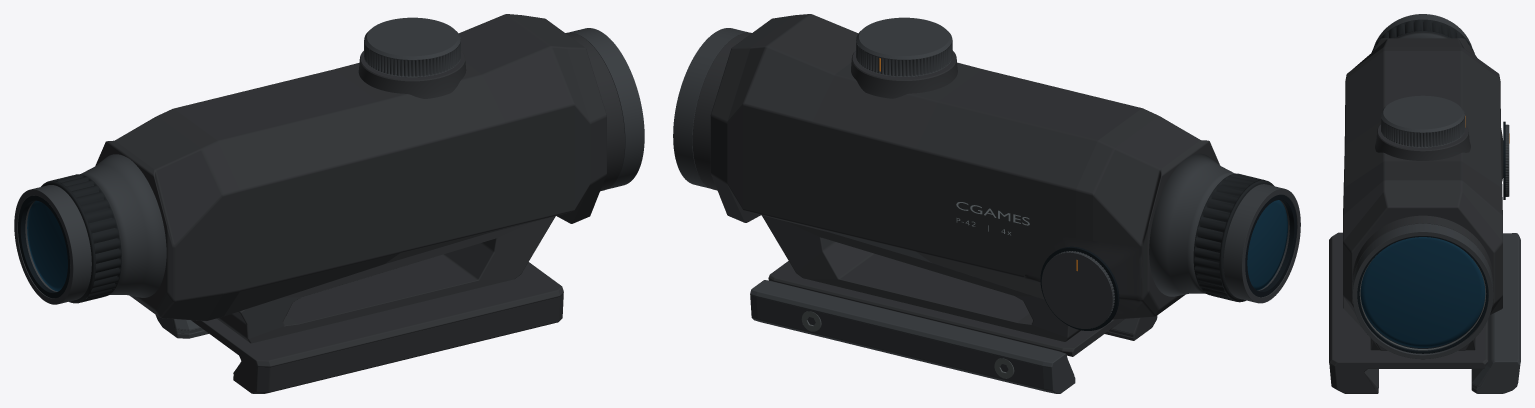
The model's file is P42_4x_Compact_Legacy_K1_Rail_Top.fbx.
3 views of the same model, side by side, from view 1: azimuth 30°, elevation 25°; view 2: azimuth 150°, elevation 25°; view 3: azimuth 270°, elevation 25° (orthographic). The views are drawn at different scales.
Parts seen in each view (by area): view 1: 01 PRIMARY | faceted prism housing, 21 LOWER SHELL | thin bridge and fixed edge, 20 UPPER FOOT | open angular saddle, 07 REAR | short taper neck, 10 REAR | end rim, 14 TOP | cap stepped core, 09 REAR | integrated axial rubber grip, 02 FRONT | short protective lip, 12 REAR | visual glass, 03 FRONT | narrow second shoulder, 13 TOP | compact housing boss, 15 TOP | actual fine axial flutes (+3 smaller); view 2: 01 PRIMARY | faceted prism housing, 22 SIDE STRIP | independent continuous bar, 20 UPPER FOOT | open angular saddle, 07 REAR | short taper neck, 21 LOWER SHELL | thin bridge and fixed edge, 18 SIDE | circular cap, 10 REAR | end rim, 14 TOP | cap stepped core, 09 REAR | integrated axial rubber grip, 02 FRONT | short protective lip, 16 SIDE | shallow integral control root, 12 REAR | visual glass (+6 smaller); view 3: 01 PRIMARY | faceted prism housing, 06 FRONT | recessed curved visual coating, 21 LOWER SHELL | thin bridge and fixed edge, 22 SIDE STRIP | independent continuous bar, 02 FRONT | short protective lip, 14 TOP | cap stepped core, 13 TOP | compact housing boss, 04 FRONT | dark cylindrical well, 03 FRONT | narrow second shoulder, 15 TOP | actual fine axial flutes, 09 REAR | integrated axial rubber grip, 10 REAR | end rim (+5 smaller).
Boxes of the visible parts, x1,y1,x2,y2 form: 01 PRIMARY | faceted prism housing: (95,14,606,321); 21 LOWER SHELL | thin bridge and fixed edge: (191,262,563,393); 20 UPPER FOOT | open angular saddle: (217,216,555,343); 07 REAR | short taper neck: (80,154,166,297); 10 REAR | end rim: (14,185,91,304); 14 TOP | cap stepped core: (364,17,460,77); 09 REAR | integrated axial rubber grip: (50,174,121,303); 02 FRONT | short protective lip: (569,28,644,189); 12 REAR | visual glass: (27,200,67,291); 03 FRONT | narrow second shoulder: (565,32,624,191); 13 TOP | compact housing boss: (358,50,466,98); 15 TOP | actual fine axial flutes: (364,39,460,76); 01 PRIMARY | faceted prism housing: (710,14,1219,319); 22 SIDE STRIP | independent continuous bar: (750,280,1075,393); 20 UPPER FOOT | open angular saddle: (762,215,1080,341); 07 REAR | short taper neck: (1149,153,1235,296); 21 LOWER SHELL | thin bridge and fixed edge: (768,261,1157,356); 18 SIDE | circular cap: (1041,252,1113,328); 10 REAR | end rim: (1223,184,1300,303); 14 TOP | cap stepped core: (856,17,952,76); 09 REAR | integrated axial rubber grip: (1194,173,1264,301); 02 FRONT | short protective lip: (673,28,748,188); 16 SIDE | shallow integral control root: (1023,234,1143,315); 12 REAR | visual glass: (1247,200,1287,290); 01 PRIMARY | faceted prism housing: (1343,38,1502,350); 06 FRONT | recessed curved visual coating: (1360,237,1485,347); 21 LOWER SHELL | thin bridge and fixed edge: (1329,232,1488,393); 22 SIDE STRIP | independent continuous bar: (1471,233,1520,393); 02 FRONT | short protective lip: (1352,223,1493,359); 14 TOP | cap stepped core: (1381,95,1464,147); 13 TOP | compact housing boss: (1375,124,1470,160); 04 FRONT | dark cylindrical well: (1357,236,1488,353); 03 FRONT | narrow second shoulder: (1352,215,1493,283); 15 TOP | actual fine axial flutes: (1381,113,1464,147); 09 REAR | integrated axial rubber grip: (1372,20,1473,51); 10 REAR | end rim: (1373,14,1471,47).
Size of the model in its own units: 16.02 by 7.51 by 5.46.
